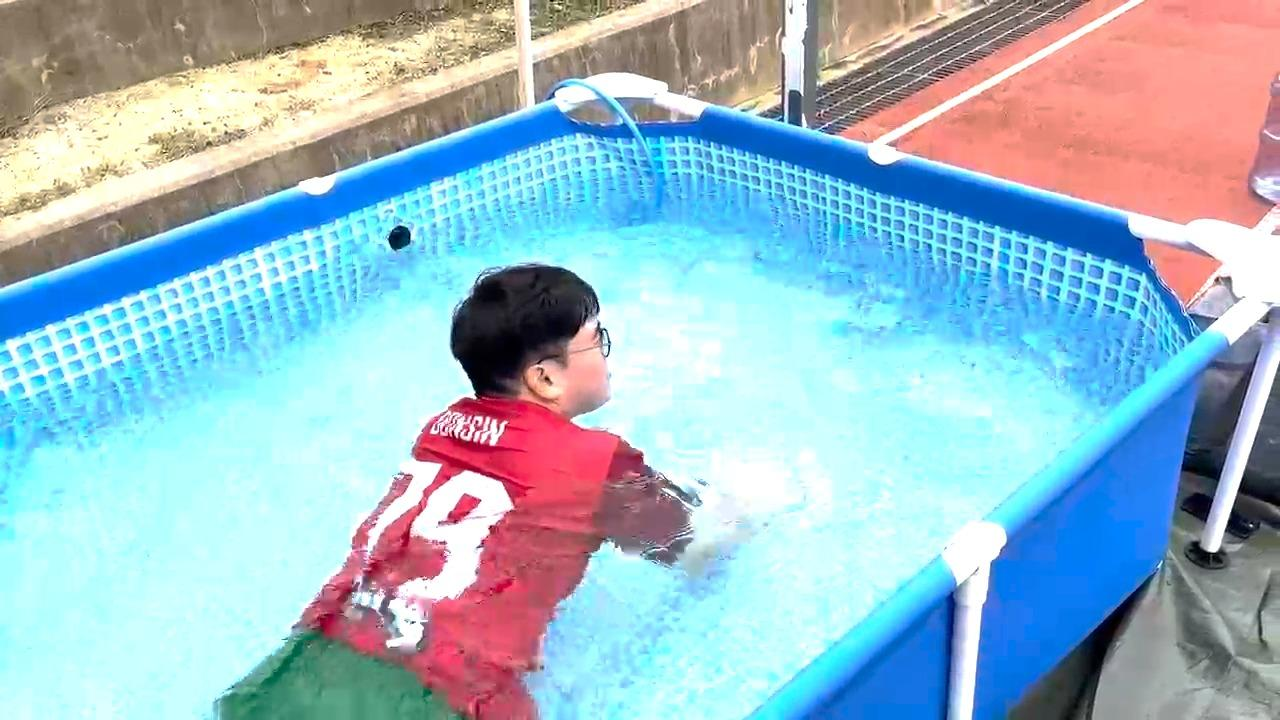Swimming: (135, 212, 757, 720)
